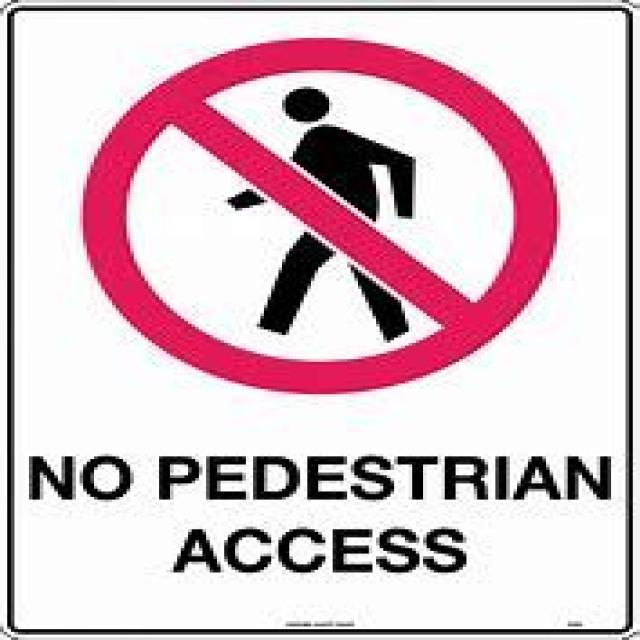Priority road: (76, 32, 560, 389)
